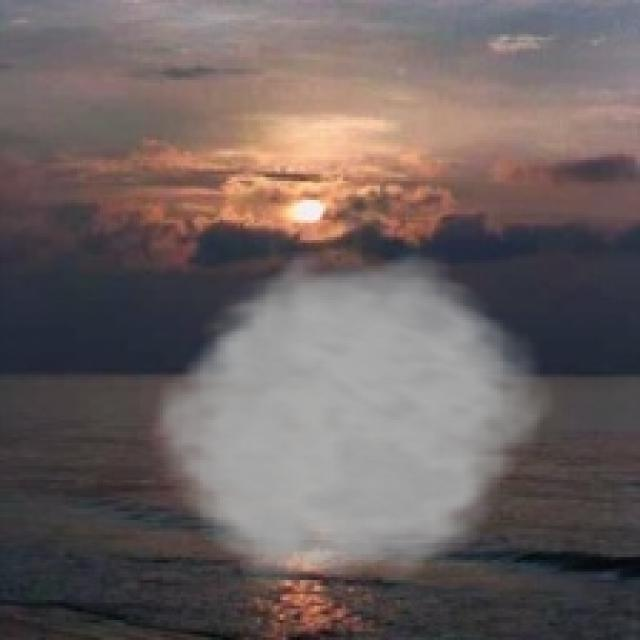Smoke: (140, 252, 563, 597)
